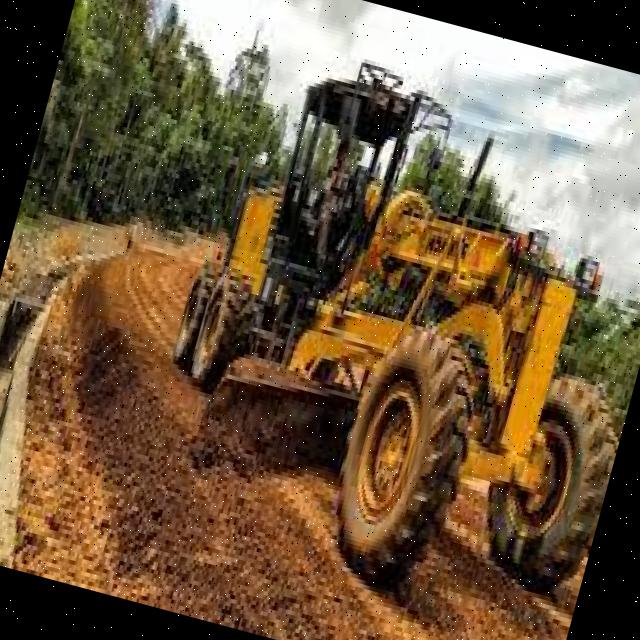Grader: (104, 10, 640, 640)
